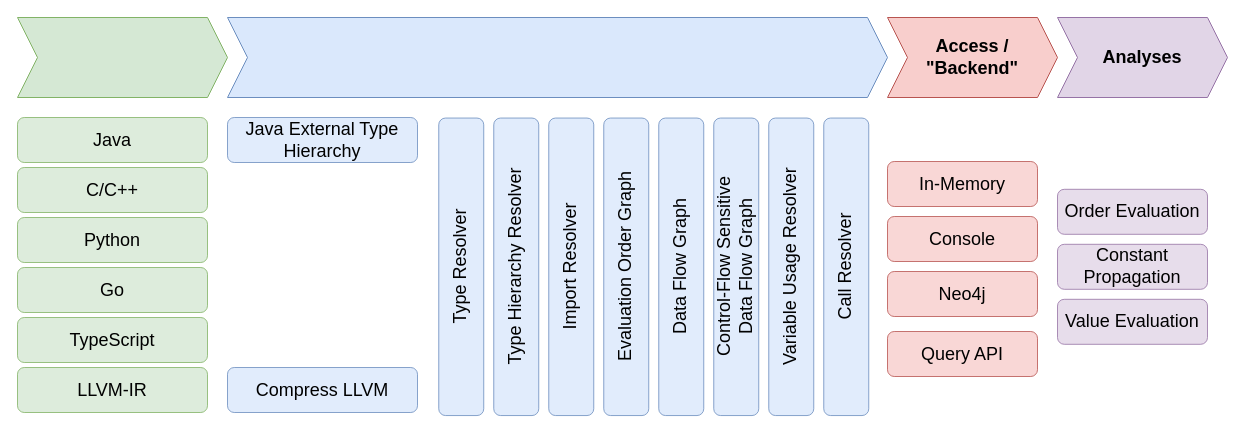
Image size: 1245x434. Some labels were removed from this diagram. Each missing label, with the box of its shape:
Language Frontend: (16, 16, 228, 98)
Passes: (226, 16, 888, 98)
